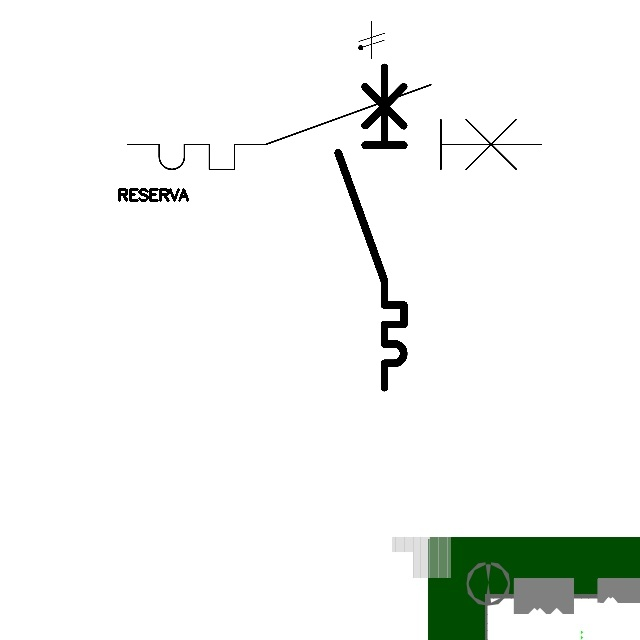interruptor_termomagnetico: (117, 74, 552, 180), (330, 59, 412, 396)
